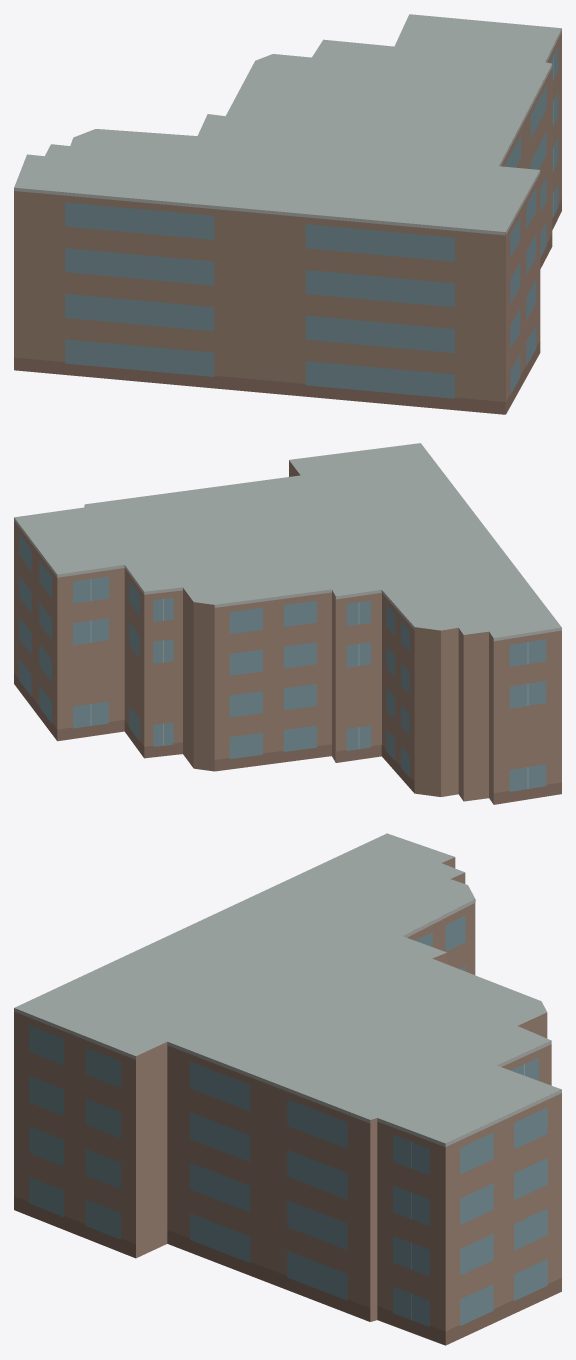
Rendered from survey-upis-32687823.glb.
3 views of the same model, one above another, from view 1: azimuth 30°, elevation 25°; view 2: azimuth 150°, elevation 25°; view 3: azimuth 270°, elevation 25° (orthographic). The views are drawn at different scales.
Visible parts, largest first — view 1: survey-upis-32687823.tmp; view 2: survey-upis-32687823.tmp; view 3: survey-upis-32687823.tmp.
Part boxes in pixels (x1=…): survey-upis-32687823.tmp: x1=14, y1=14, x2=561, y2=414; survey-upis-32687823.tmp: x1=14, y1=443, x2=561, y2=804; survey-upis-32687823.tmp: x1=14, y1=833, x2=561, y2=1345.
Bounding box in the file's own units: 44.43 × 13.5 × 33.17.
